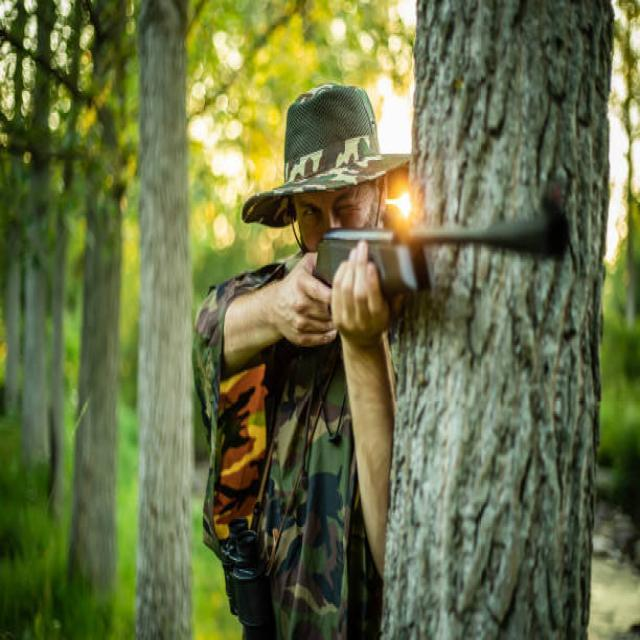poacher: (162, 56, 420, 618)
weapon: (316, 214, 576, 290)
